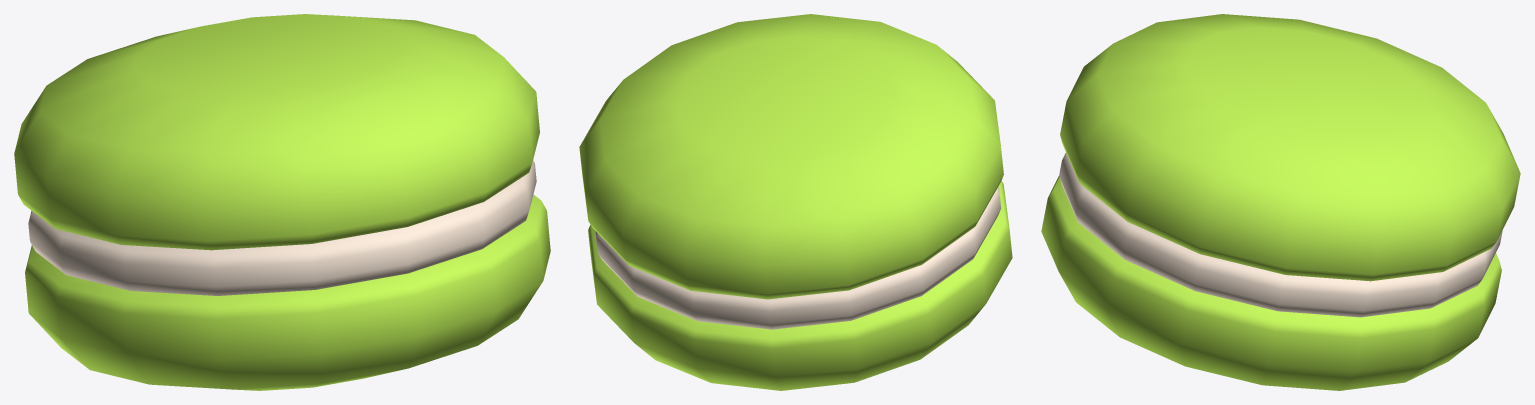
The model's file is SM_macaron_10.fbx.
3 views of the same model, side by side, from view 1: azimuth 30°, elevation 25°; view 2: azimuth 150°, elevation 25°; view 3: azimuth 270°, elevation 25° (orthographic). The views are drawn at different scales.
Visible parts, largest first — view 1: SM_macaron_10; view 2: SM_macaron_10; view 3: SM_macaron_10.
Part boxes in pixels (x1,y1,x2,y2): SM_macaron_10: (14, 14, 550, 390); SM_macaron_10: (579, 14, 1012, 390); SM_macaron_10: (1041, 14, 1520, 390).
Size of the model in its own units: 9.06 by 6.05 by 9.42.
1 material, 1 textured.
